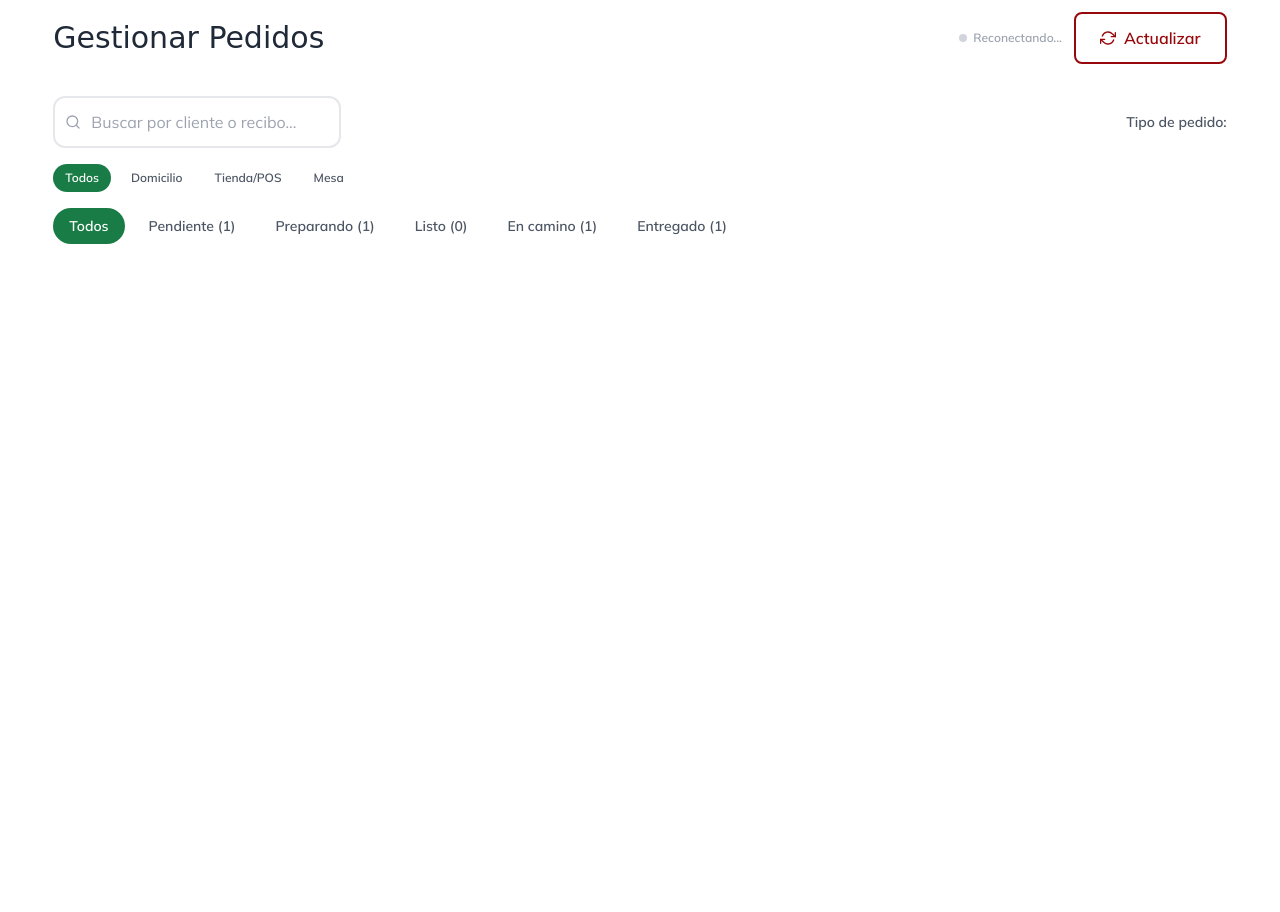
it: AdminOrders › filters orders by type
Click the button "Domicilio". click: (157, 178)
box: 119,164 -> 195,192
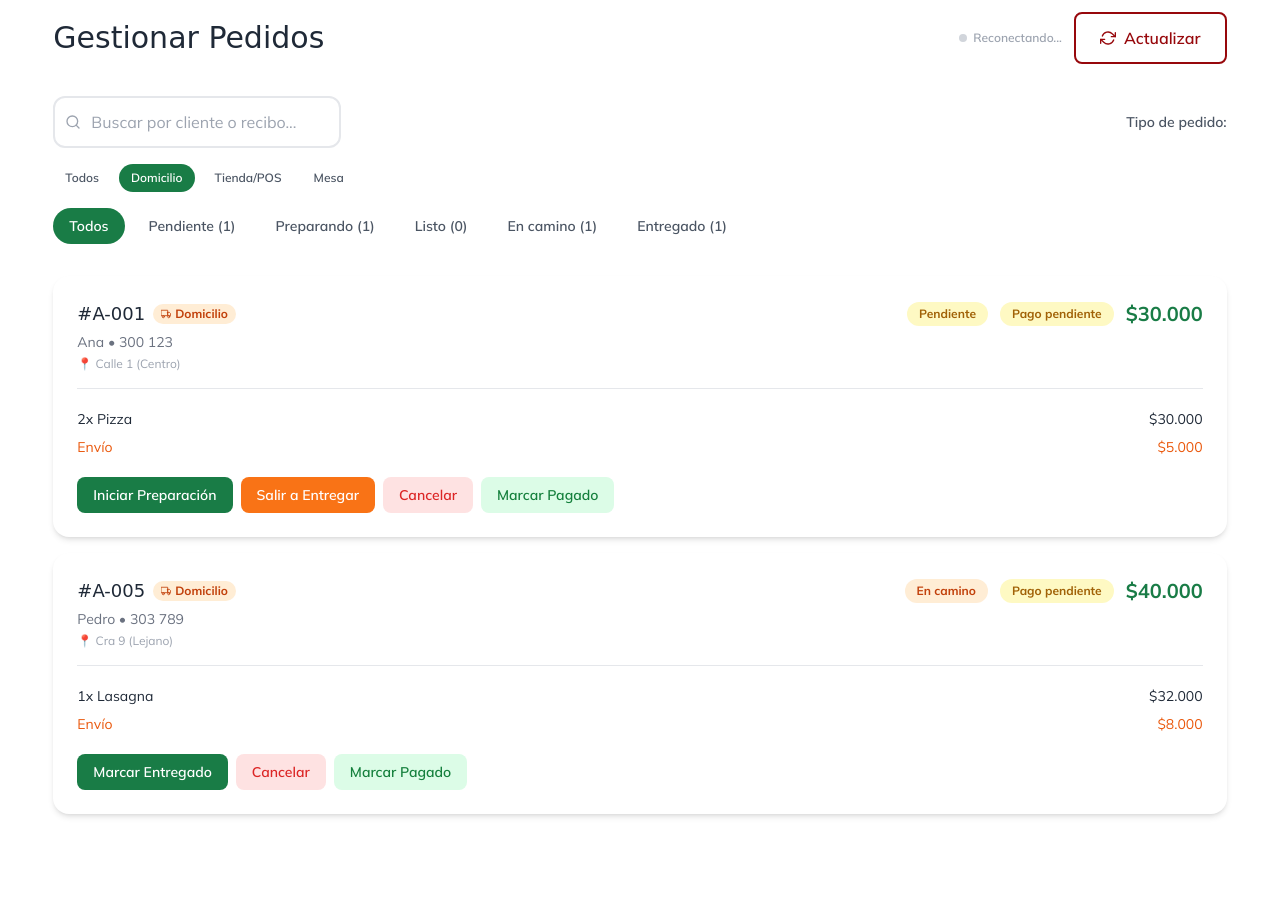
Expected: the heading "#A-001" is shown, 77,300 -> 145,328
